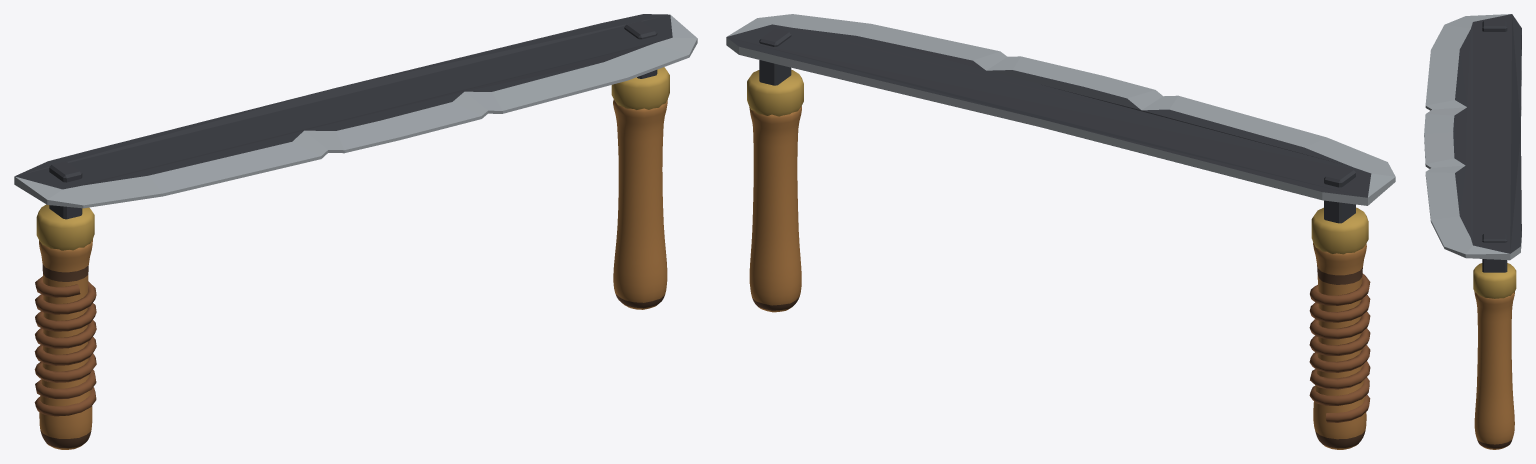
The model's file is tool_fleshingscraper.fbx.
3 renders of one model, left to right at view 1: azimuth 30°, elevation 25°; view 2: azimuth 150°, elevation 25°; view 3: azimuth 270°, elevation 25°, orthographic. The views are drawn at different scales.
Parts seen in each view (by area): view 1: Tool_FleshingScraper_Blade, Tool_FleshingScraper_HandleB, Tool_FleshingScraper_GripWrap, Tool_FleshingScraper_HandleA, Tool_FleshingScraper_Tangs; view 2: Tool_FleshingScraper_Blade, Tool_FleshingScraper_HandleB, Tool_FleshingScraper_Tangs, Tool_FleshingScraper_GripWrap, Tool_FleshingScraper_HandleA; view 3: Tool_FleshingScraper_Blade, Tool_FleshingScraper_HandleB, Tool_FleshingScraper_Tangs.
Part boxes in pixels (left/top/right/bottom): Tool_FleshingScraper_Blade: left=14, top=14, right=697, bottom=208; Tool_FleshingScraper_HandleB: left=613, top=99, right=667, bottom=309; Tool_FleshingScraper_GripWrap: left=34, top=276, right=96, bottom=416; Tool_FleshingScraper_HandleA: left=39, top=239, right=92, bottom=449; Tool_FleshingScraper_Tangs: left=36, top=21, right=669, bottom=250; Tool_FleshingScraper_Blade: left=726, top=14, right=1395, bottom=205; Tool_FleshingScraper_HandleB: left=749, top=106, right=801, bottom=312; Tool_FleshingScraper_Tangs: left=747, top=28, right=1368, bottom=254; Tool_FleshingScraper_GripWrap: left=1309, top=273, right=1370, bottom=422; Tool_FleshingScraper_HandleA: left=1313, top=243, right=1366, bottom=449; Tool_FleshingScraper_Blade: left=1424, top=14, right=1521, bottom=260; Tool_FleshingScraper_HandleB: left=1474, top=291, right=1514, bottom=449; Tool_FleshingScraper_Tangs: left=1473, top=20, right=1516, bottom=298.
Size of the model in its own units: 59.2 by 23.95 by 10.1.
